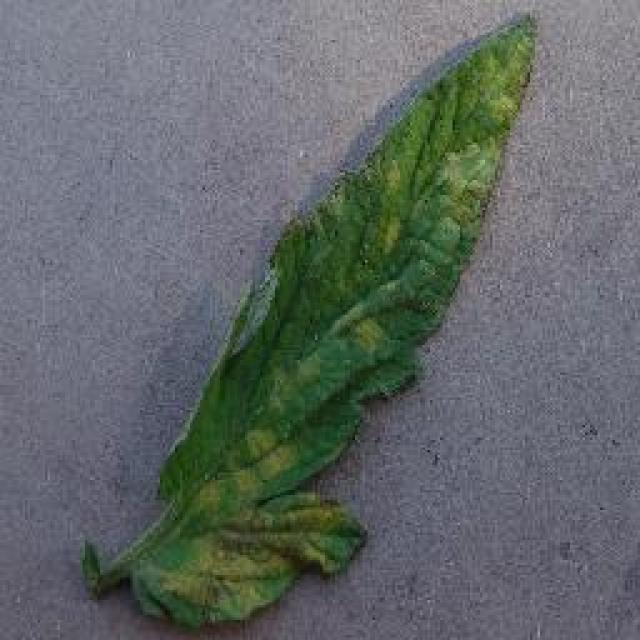Tomato mold leaf: (81, 15, 541, 627)
